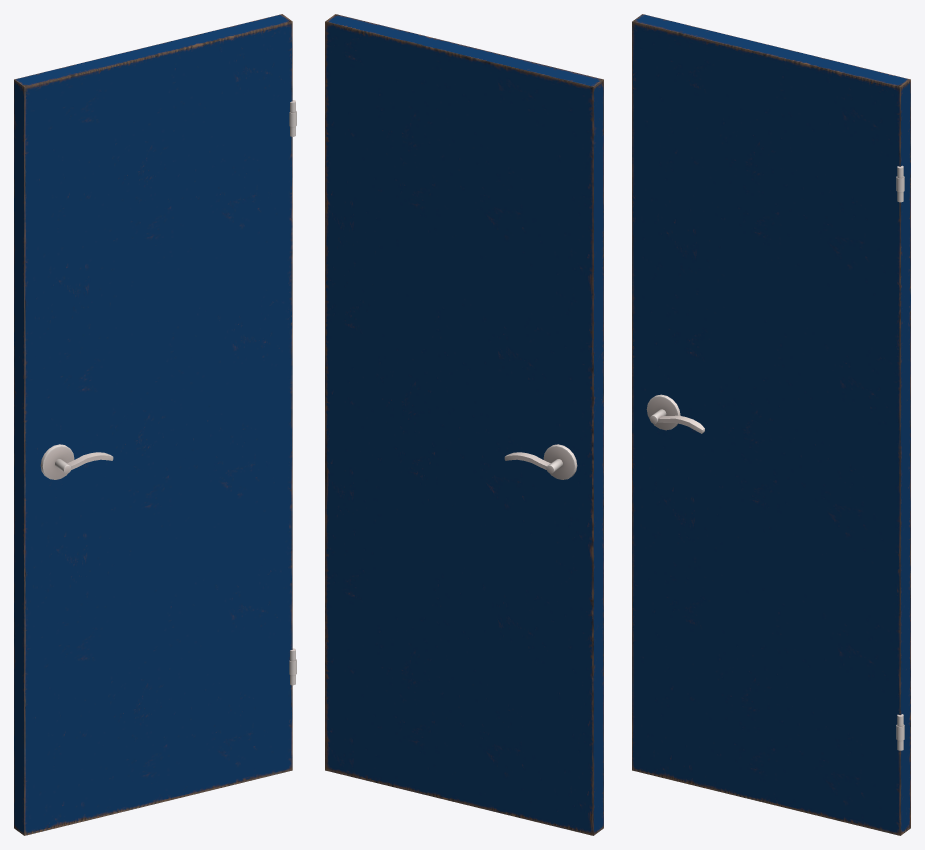
File: SM_LevelFunDoor.fbx
3 renders of one model, left to right at view 1: azimuth 30°, elevation 25°; view 2: azimuth 150°, elevation 25°; view 3: azimuth 330°, elevation 25°, orthographic.
Parts seen in each view (by area): view 1: SM_LevelFunDoor; view 2: SM_LevelFunDoor; view 3: SM_LevelFunDoor.
Boxes of the visible parts, x1,y1,x2,y2 form: SM_LevelFunDoor: (14, 14, 296, 835); SM_LevelFunDoor: (325, 14, 603, 835); SM_LevelFunDoor: (632, 14, 910, 835).
Size of the model in its own units: 76 by 200 by 15.59.
